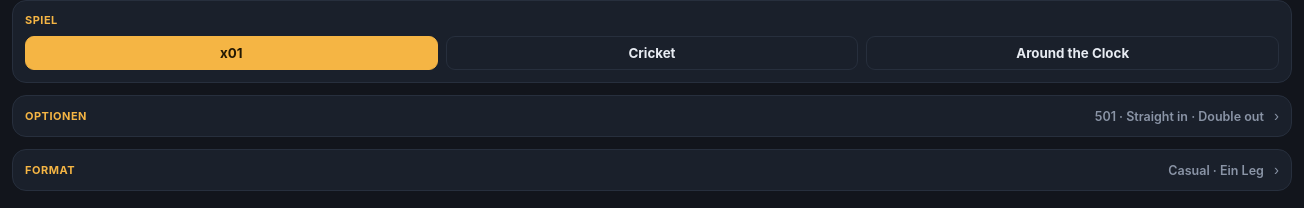
Test: GameOptionsPicker Format › Around the Clock hat keinen Optionen-Fold
Expected: the text "Optionen" is shown, 25,109 -> 87,123
Click the button "Around the Clock" at [1073, 53], box 866,36 -> 1279,70
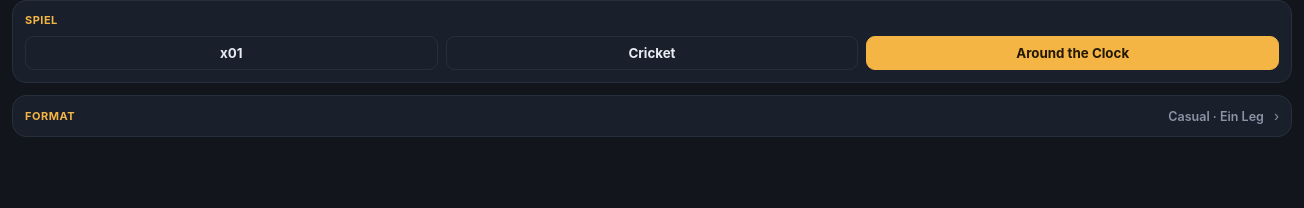
Now the button "Optionen" is gone
